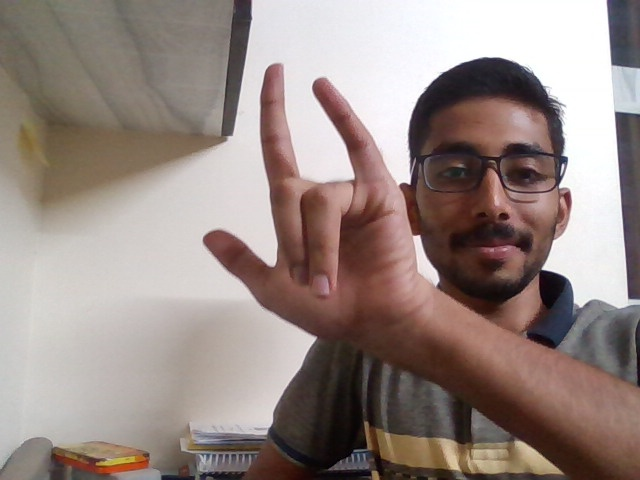Enjoy: (188, 57, 442, 382)
